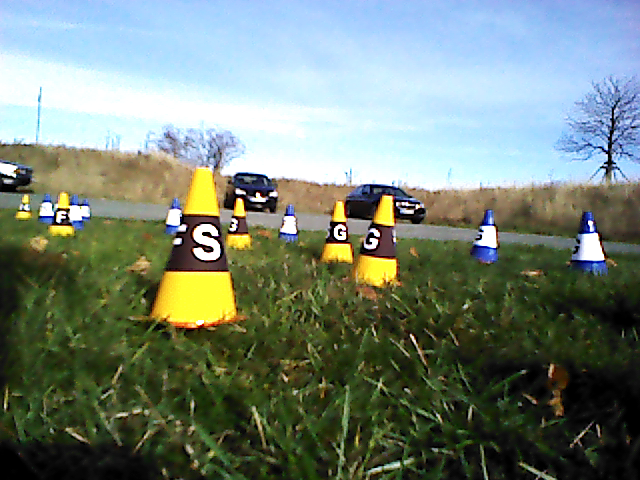bluecone: (570, 212, 609, 275), (470, 210, 498, 260), (278, 205, 300, 241)
yellowcone: (154, 167, 235, 319), (356, 196, 398, 281), (323, 201, 354, 261), (227, 199, 252, 246)
